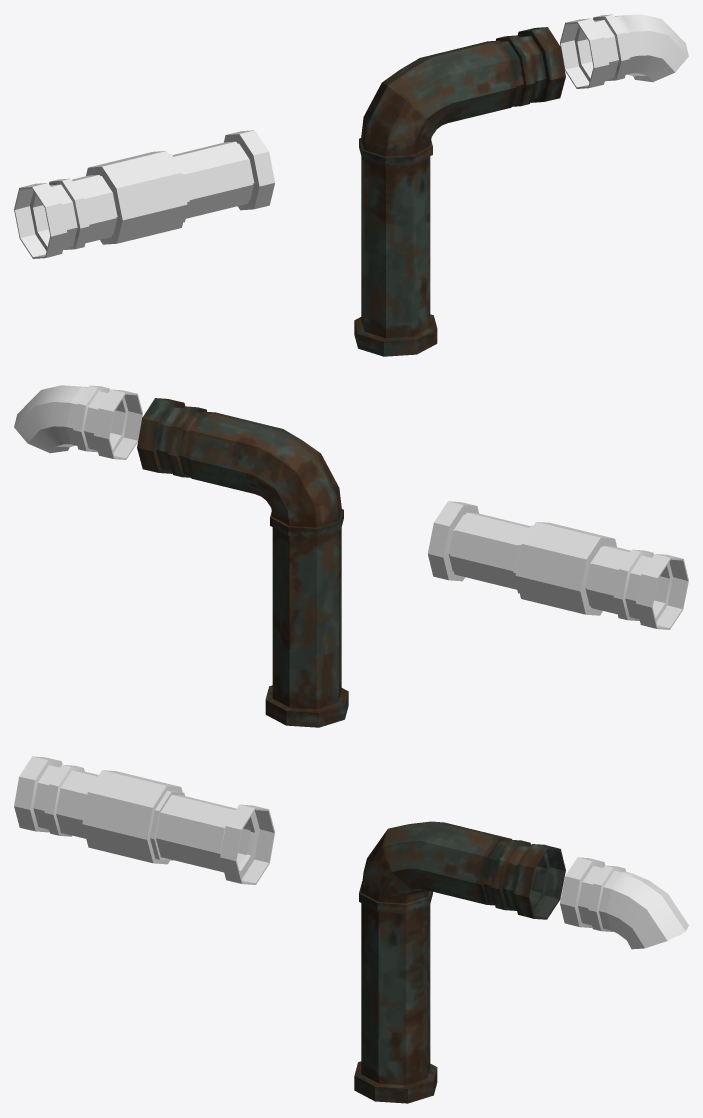
The model's file is 006tubes.fbx.
The picture shows the model from 3 angles, top to bottom: view 1: azimuth 30°, elevation 25°; view 2: azimuth 150°, elevation 25°; view 3: azimuth 330°, elevation 25°; orthographic projection.
Visible parts, largest first — view 1: Cylinder.004, Cylinder.006, Cylinder.005; view 2: Cylinder.004, Cylinder.006, Cylinder.005; view 3: Cylinder.004, Cylinder.006, Cylinder.005.
Part boxes in pixels (left/top/right/bottom): Cylinder.004: left=354, top=27, right=565, bottom=356; Cylinder.006: left=14, top=130, right=275, bottom=258; Cylinder.005: left=560, top=14, right=688, bottom=88; Cylinder.004: left=137, top=398, right=348, bottom=727; Cylinder.006: left=427, top=501, right=688, bottom=629; Cylinder.005: left=14, top=385, right=142, bottom=459; Cylinder.004: left=354, top=821, right=565, bottom=1103; Cylinder.006: left=14, top=756, right=275, bottom=884; Cylinder.005: left=560, top=857, right=688, bottom=949.
Size of the model in its own units: 3.05 by 1.23 by 0.3368.
1 material, 1 textured.
